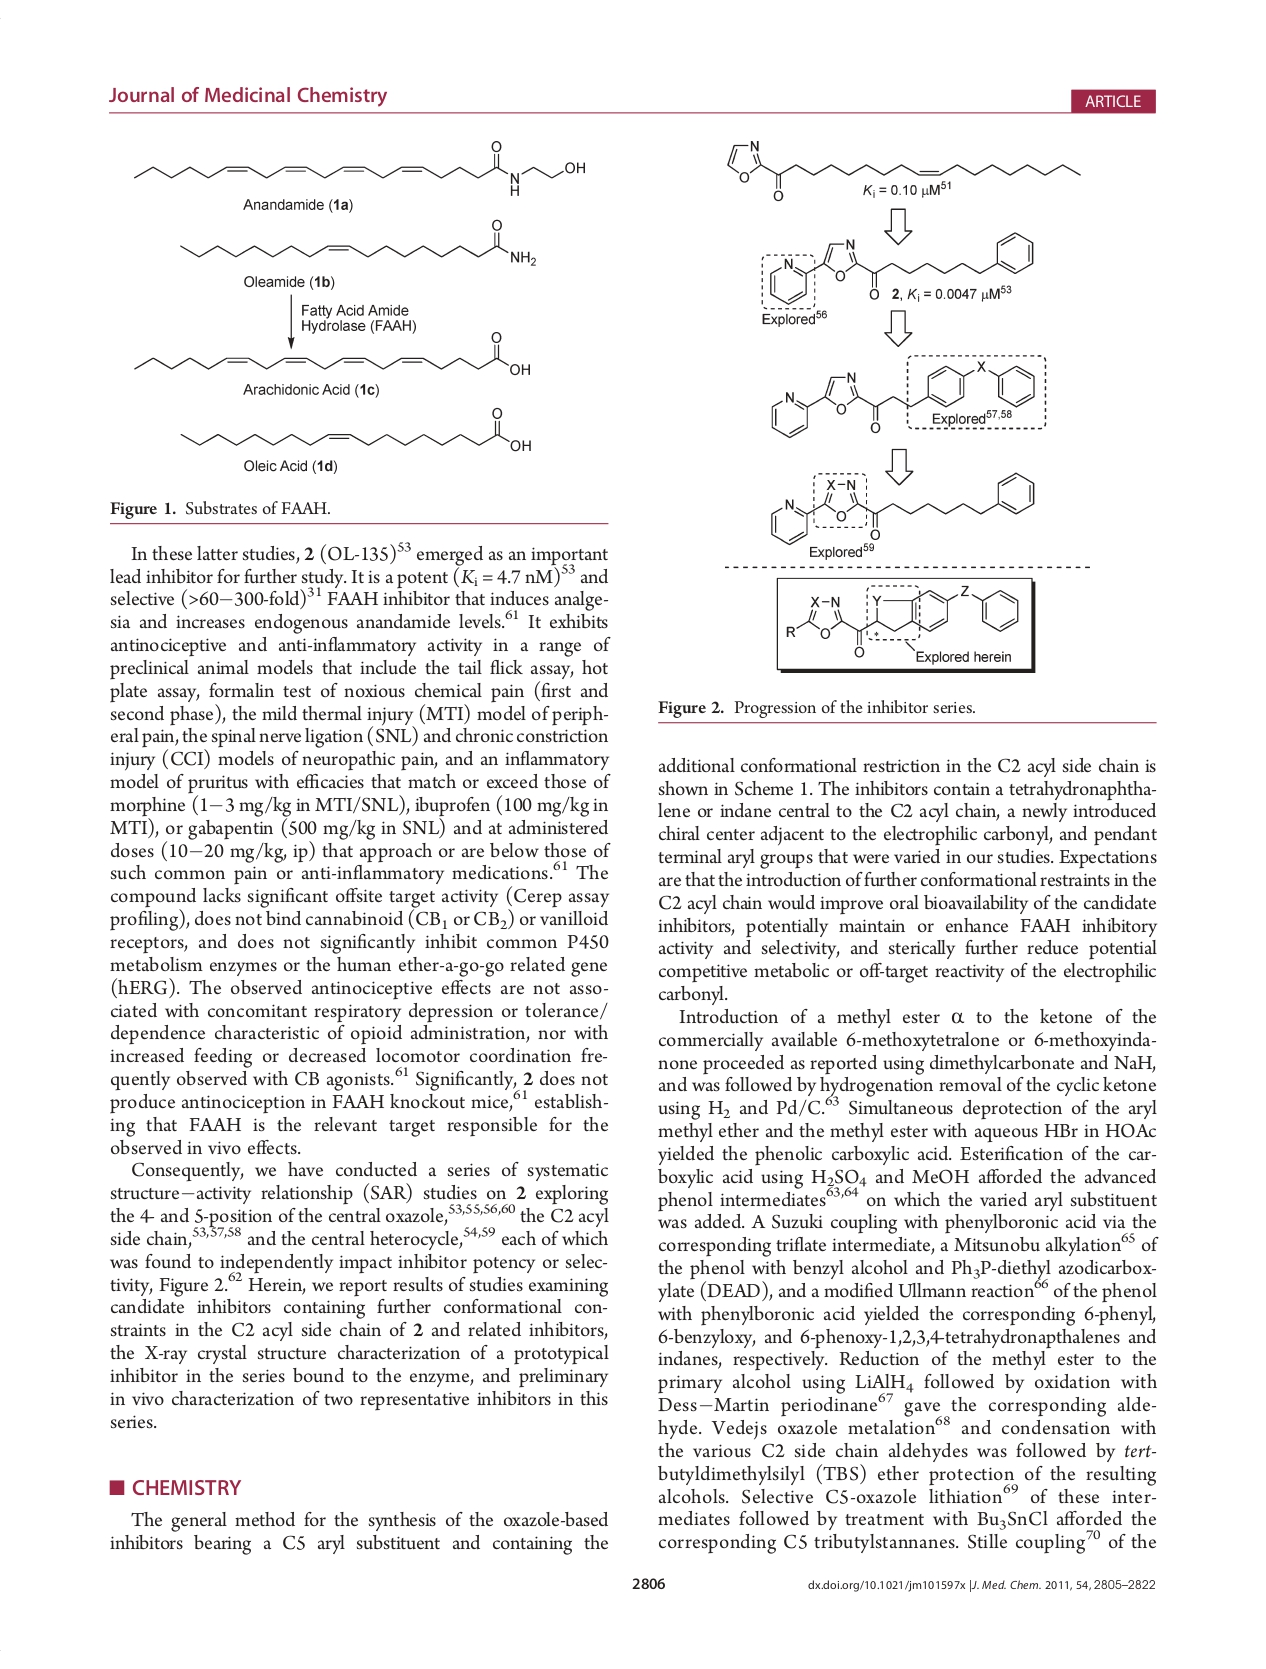exist_molecular: (129, 140, 589, 198), (725, 136, 1085, 202), (769, 359, 1039, 440), (174, 217, 543, 273), (767, 230, 1037, 306), (770, 471, 1037, 547), (129, 330, 533, 378), (785, 582, 1023, 660), (176, 406, 539, 456)
